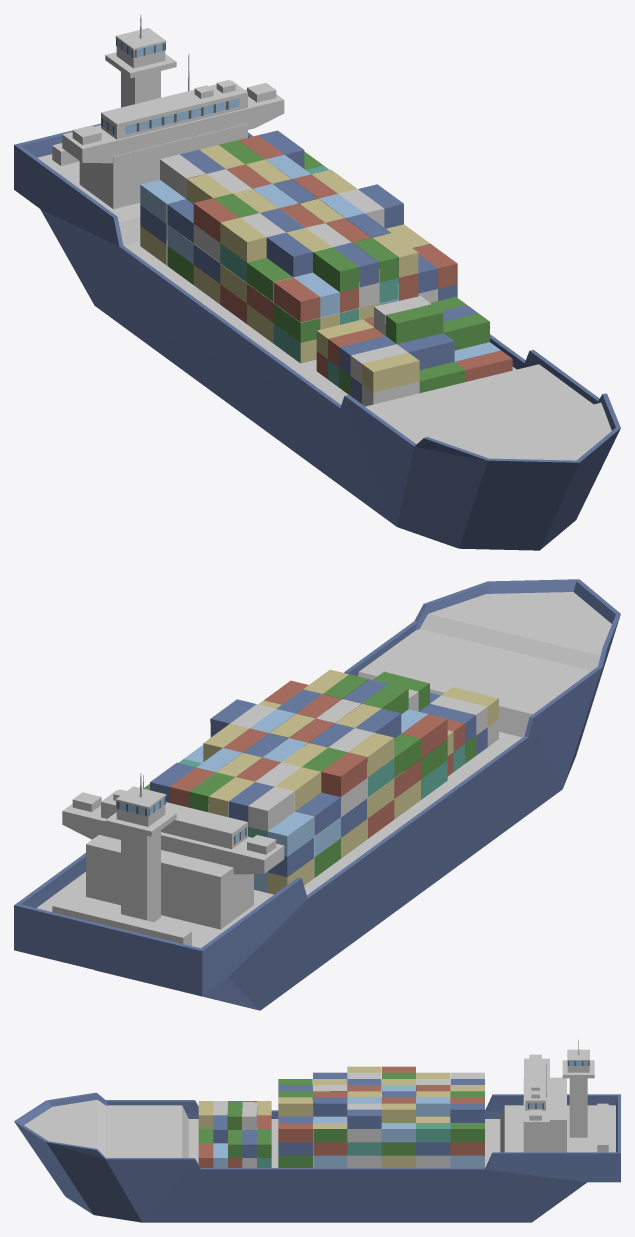
File: transport_water_005.fbx
3 views of the same model, one above another, from view 1: azimuth 30°, elevation 25°; view 2: azimuth 150°, elevation 25°; view 3: azimuth 270°, elevation 25° (orthographic). The views are drawn at different scales.
Parts seen in each view (by area): view 1: transport_water_005; view 2: transport_water_005; view 3: transport_water_005.
Boxes of the visible parts, x1,y1,x2,y2 form: transport_water_005: [14, 14, 620, 550]; transport_water_005: [14, 579, 620, 1010]; transport_water_005: [14, 1039, 620, 1222].
Size of the model in its own units: 1201 by 1387 by 4852.
